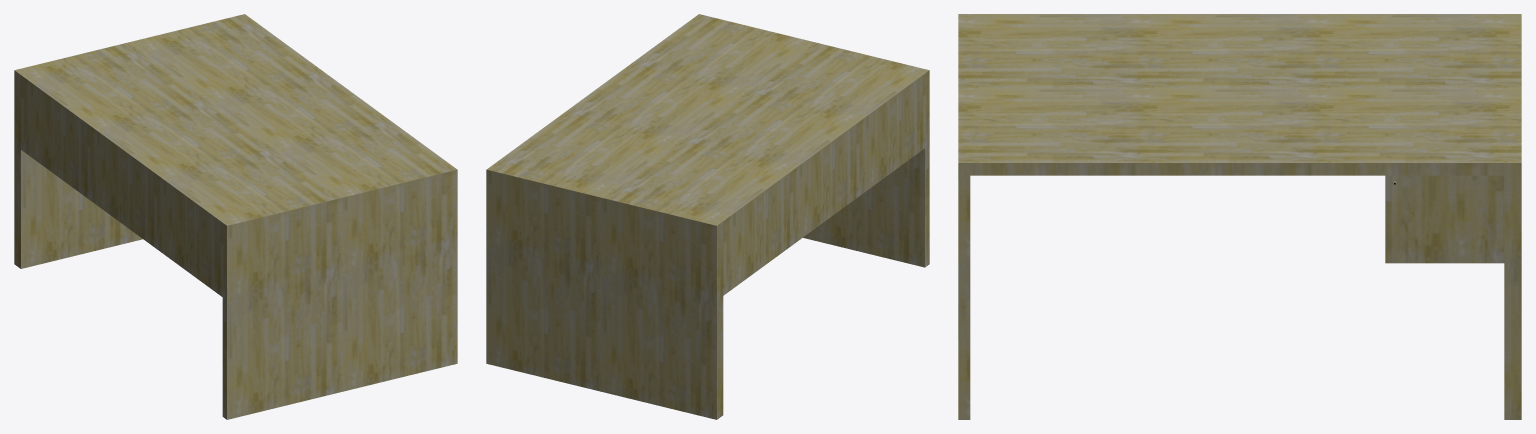
The picture shows the model from 3 angles, left to right: view 1: azimuth 30°, elevation 25°; view 2: azimuth 150°, elevation 25°; view 3: azimuth 270°, elevation 25°; orthographic projection. The views are drawn at different scales.
Parts seen in each view (by area): view 1: SketchUp; view 2: SketchUp; view 3: SketchUp (×3).
Boxes of the visible parts, box(x1,y1,x2,y2) form: SketchUp: box(14, 14, 457, 419); SketchUp: box(486, 14, 929, 419); SketchUp (×3): box(958, 14, 1521, 419).
Size of the model in its own units: 79.13 by 126 by 63.37.
